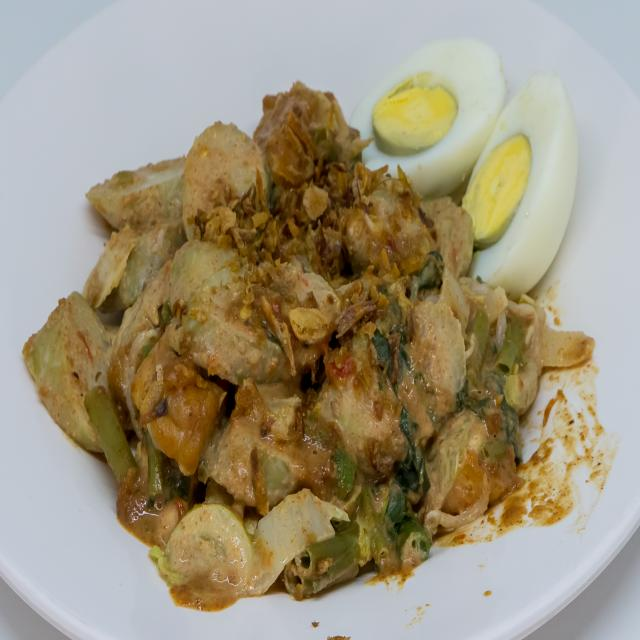Gado-Gado: (12, 20, 602, 618)
